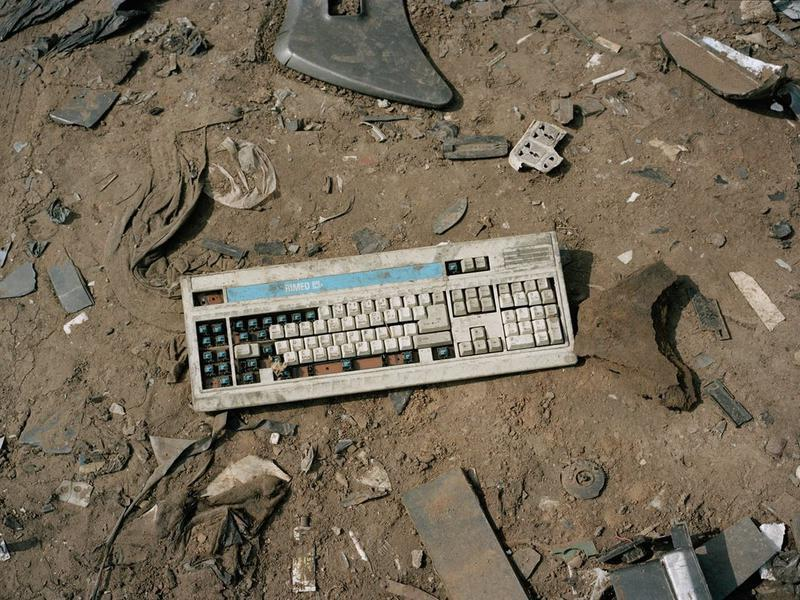keyboard: (167, 230, 588, 414)
